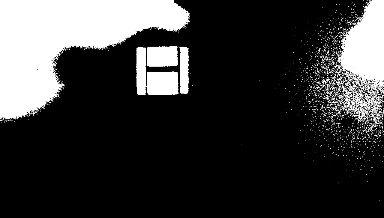H: (135, 46, 189, 94)
